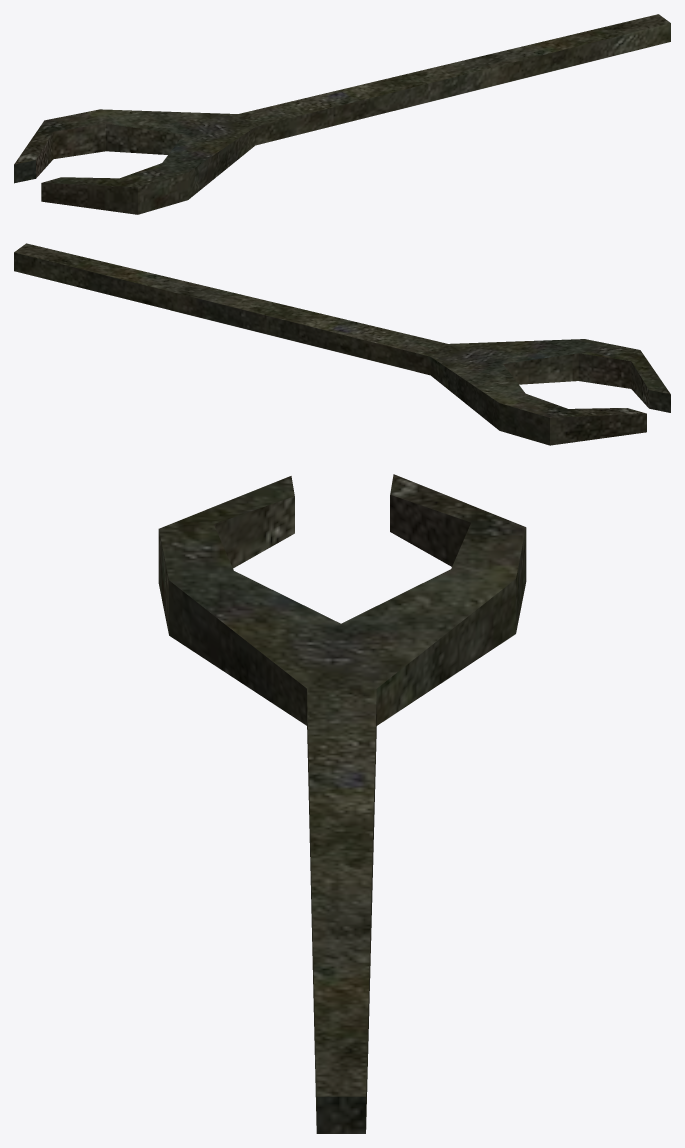
Rendered from ITMI_PLIERS.glb.
The picture shows the model from 3 angles, top to bottom: view 1: azimuth 30°, elevation 25°; view 2: azimuth 150°, elevation 25°; view 3: azimuth 270°, elevation 25°; orthographic projection. The views are drawn at different scales.
Visible parts, largest first — view 1: ITMI_PLIERS; view 2: ITMI_PLIERS; view 3: ITMI_PLIERS.
Part boxes in pixels (<box>): ITMI_PLIERS: <box>14,14,670,214</box>; ITMI_PLIERS: <box>14,243,670,445</box>; ITMI_PLIERS: <box>158,474,526,1133</box>.
Bounding box in the file's own units: 0.7033 × 0.0291 × 0.1754.
Materials: 1 (1 with a texture image).
